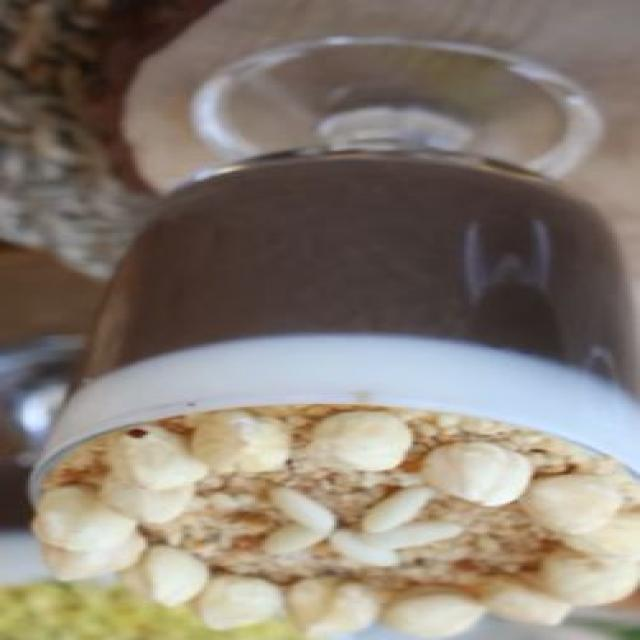asida-zkoukou: (40, 146, 640, 630)
